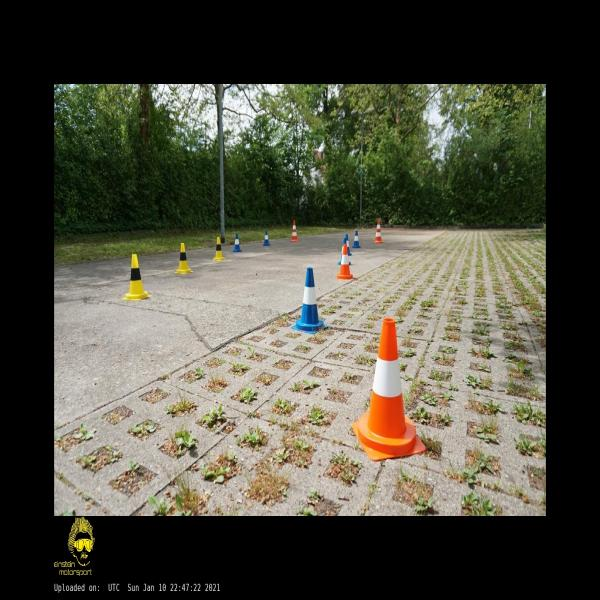blue_cone: (291, 268, 328, 334), (338, 238, 351, 265), (232, 233, 242, 252), (345, 234, 352, 256), (263, 230, 271, 246), (353, 230, 360, 248)
large_orange_cone: (374, 219, 383, 243), (290, 220, 298, 241)
orange_cone: (351, 318, 426, 460), (336, 244, 354, 279)
yellow_cone: (122, 254, 151, 300), (175, 243, 193, 274), (212, 237, 226, 260)
